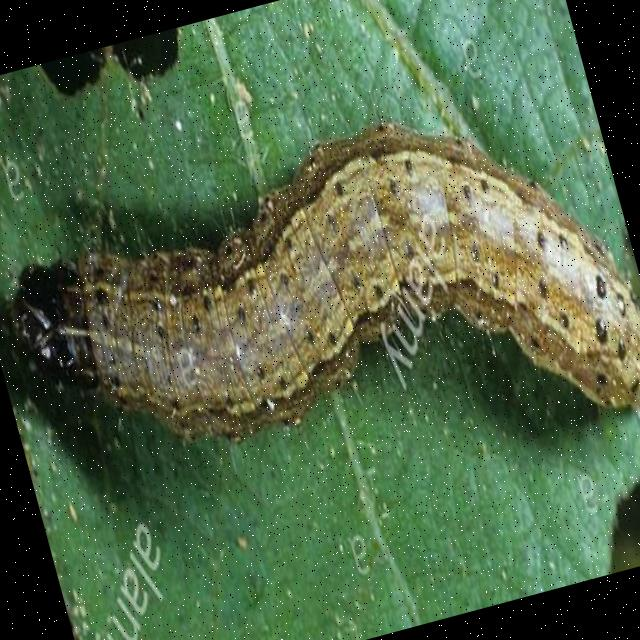worm: (1, 66, 640, 560)
